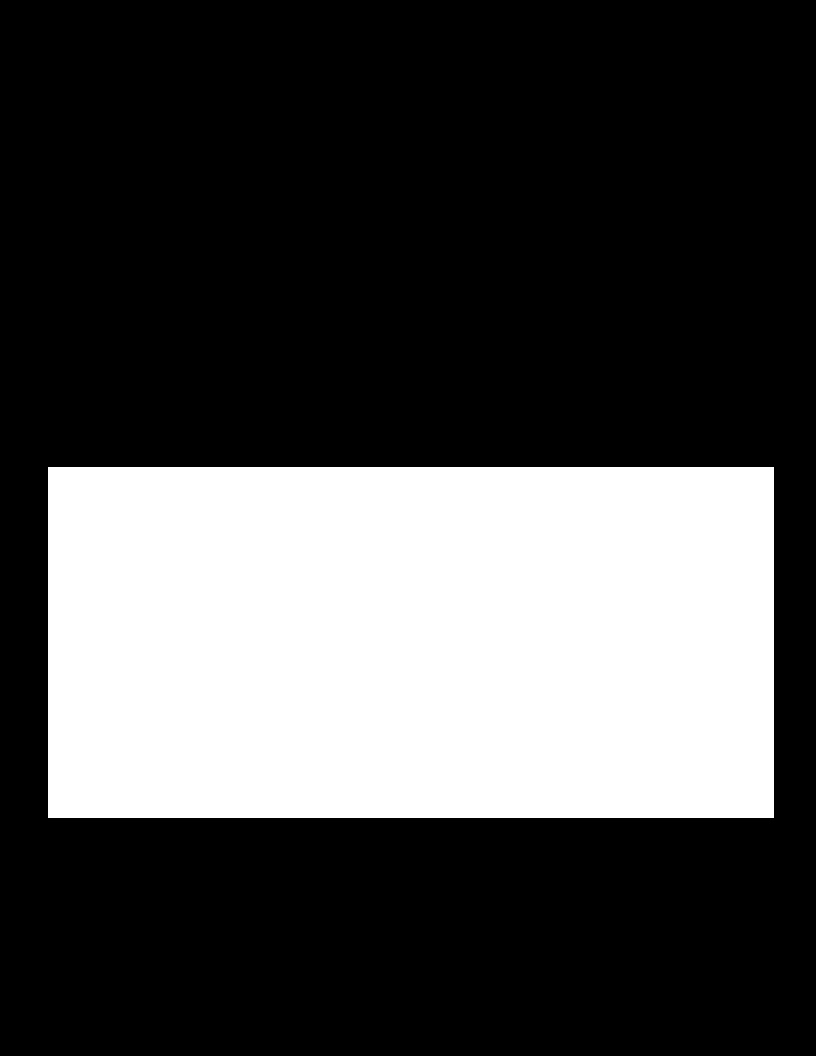table: (48, 467, 773, 817)
